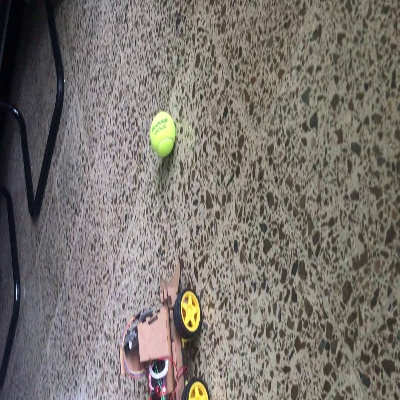Ball: (148, 111, 175, 157)
Robot: (120, 256, 209, 399)
